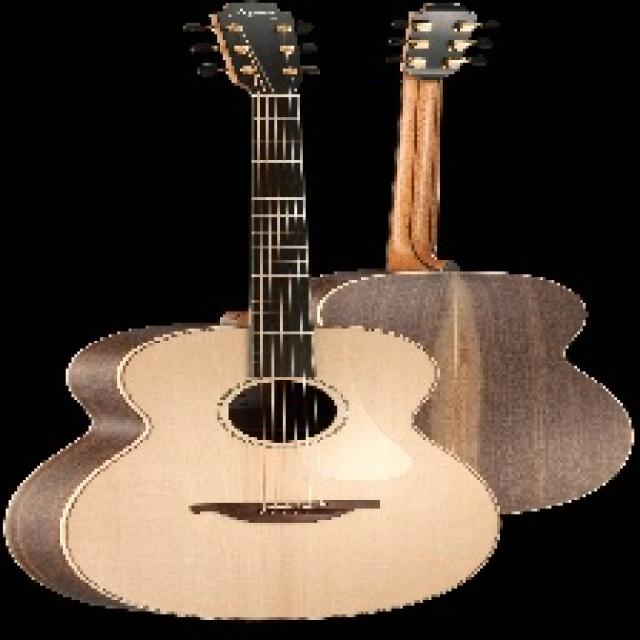guitar: (4, 0, 501, 621), (305, 4, 635, 515)
